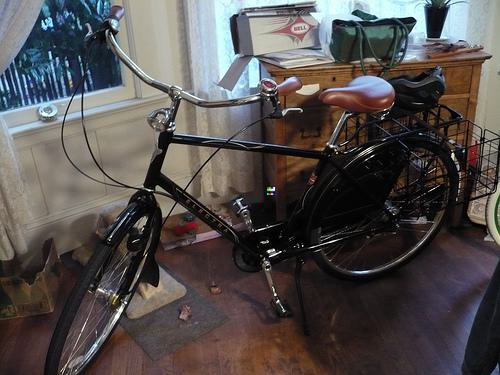car: (43, 7, 500, 375)
pottedplant: (405, 1, 473, 40)
